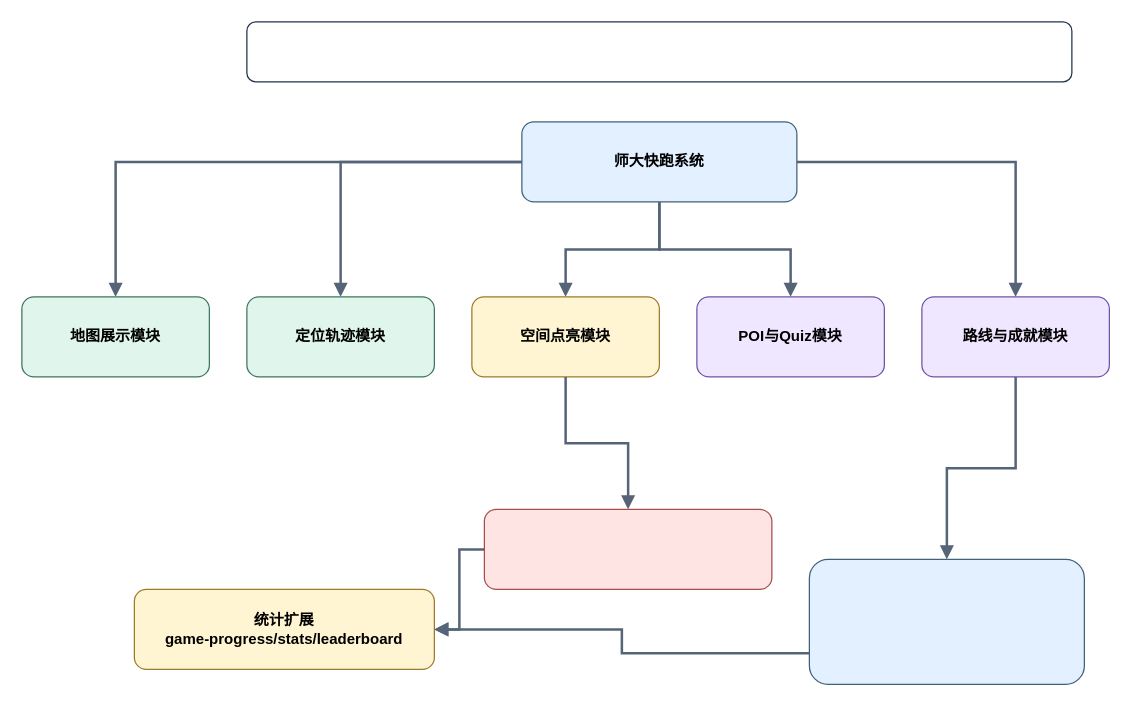
This 1131x706 diagram has some shape labels left out. The centre of each missing label's shape, as x and y in pixels:
云端同步 profile/grid/poi/session/config: point 627,548
模块设计与模块结构图: point 659,51
结果展示 结算/历史/图鉴/成就 看板/排行: point 946,621
